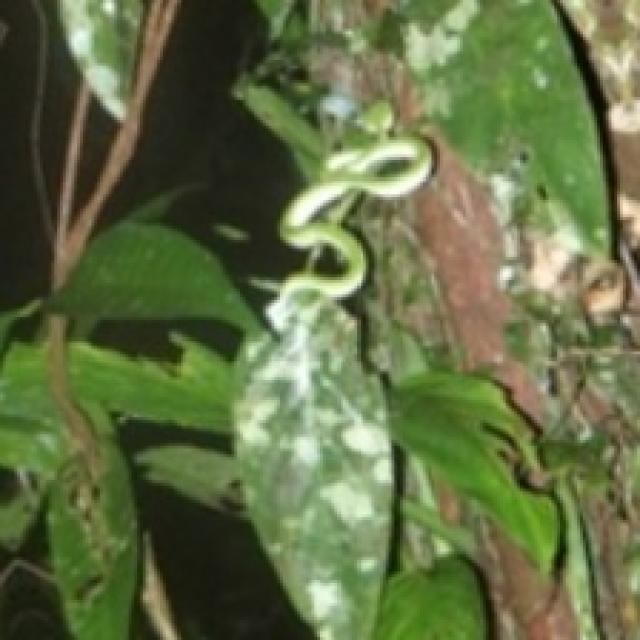north ph temple pitviper: (277, 134, 431, 297)
